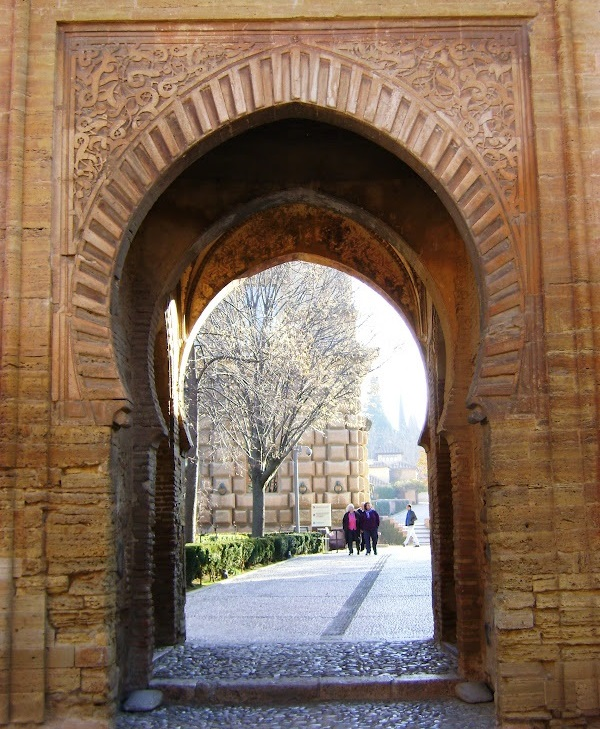arco-herradura: (93, 84, 516, 448)
